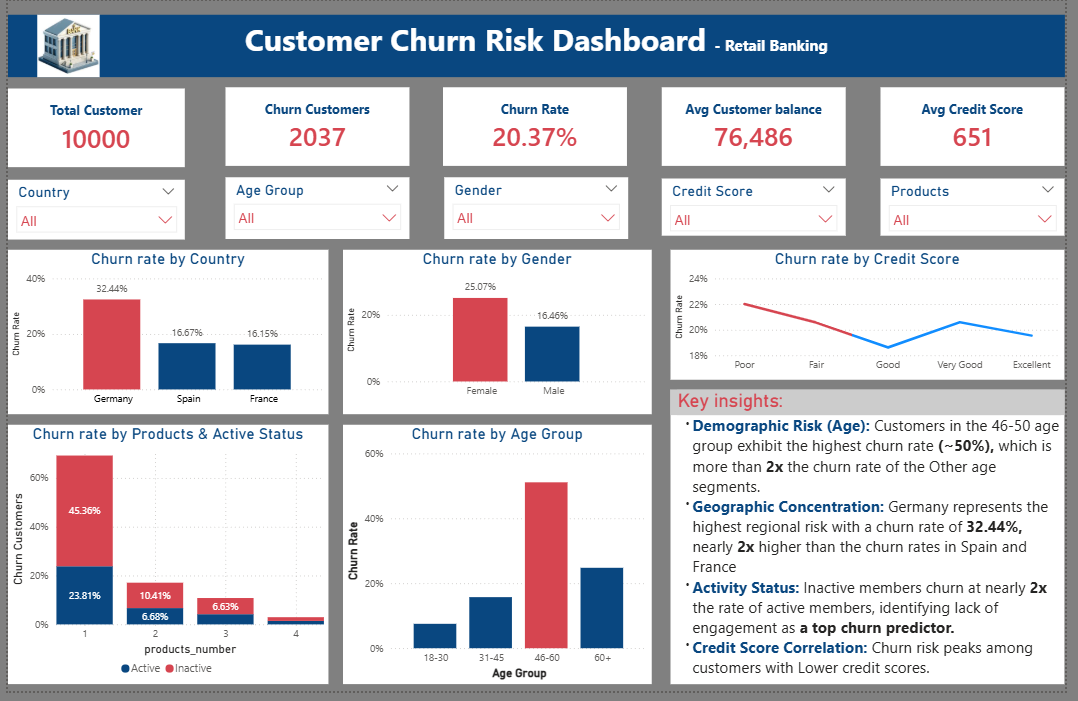

Layout of this report page (visuals, bound fields, positions):
{"tool":"powerbi","page":{"name":"Page 1","canvas":[1300,850],"ordinal":0},"visuals":[{"type":"textbox","title":"Customer Churn Risk Dashboard","box":[0,17.3,1300.7,76.5],"z":0},{"type":"columnChart","title":"Churn rate by Country","fields":{"Category":["Bank_Churn_Customer_Analysis.country"],"Y":["Bank_Churn_Customer_Analysis.Churn Rate"]},"box":[0,306,394.1,202.1],"z":1000},{"type":"columnChart","title":"Churn rate by Products & Active Status","fields":{"Category":["Bank_Churn_Customer_Analysis.products_number"],"Series":["Bank_Churn_Customer_Analysis.active Status"],"Y":["Bank_Churn_Customer_Analysis.Churn Customers"]},"box":[0,521.1,394.1,319],"z":2000},{"type":"clusteredColumnChart","title":"Churn rate by Gender","fields":{"Category":["Bank_Churn_Customer_Analysis.gender"],"Y":["Bank_Churn_Customer_Analysis.Churn Rate"]},"box":[412.9,306,379.7,202.1],"z":3000},{"type":"clusteredColumnChart","title":"Churn rate by Age Group","fields":{"Category":["Bank_Churn_Customer_Analysis.Age_group"],"Y":["Bank_Churn_Customer_Analysis.Churn Rate"]},"box":[412.9,521.1,379.7,319],"z":4000},{"type":"image","box":[0,17.3,148.7,76.5],"z":5000},{"type":"cardVisual","fields":{"Data":["Bank_Churn_Customer_Analysis.Total Customer"]},"box":[0,108.3,218,96.7],"z":6000},{"type":"cardVisual","fields":{"Data":["Bank_Churn_Customer_Analysis.Churn Customers"]},"box":[267.1,106.8,226.6,96.7],"z":7000},{"type":"cardVisual","fields":{"Data":["Bank_Churn_Customer_Analysis.Churn Rate"]},"box":[535.6,106.8,226.6,96.7],"z":8000},{"type":"cardVisual","fields":{"Data":["Avg(Bank_Churn_Customer_Analysis.balance)"]},"box":[804.1,106.8,226.6,96.7],"z":9000},{"type":"cardVisual","fields":{"Data":["Avg(Bank_Churn_Customer_Analysis.credit_score_numbers)"]},"box":[1074.1,106.8,226.6,96.7],"z":10000},{"type":"slicer","fields":{"Values":["Bank_Churn_Customer_Analysis.country"]},"box":[0,219.4,218,73.6],"z":11000},{"type":"slicer","fields":{"Values":["Bank_Churn_Customer_Analysis.Age_group"]},"box":[267.7,216.4,226,75.8],"z":12000},{"type":"slicer","fields":{"Values":["Bank_Churn_Customer_Analysis.gender"]},"box":[536.3,216.4,226,75.8],"z":13000},{"type":"slicer","fields":{"Values":["Bank_Churn_Customer_Analysis.active Status"]},"box":[804.8,219.1,226,70.3],"z":14000},{"type":"slicer","fields":{"Values":["Bank_Churn_Customer_Analysis.products_number"]},"box":[1073.4,218.3,226.6,70.7],"z":15000},{"type":"lineChart","title":"Churn rate by Credit Score","fields":{"Y":["Bank_Churn_Customer_Analysis.Churn Rate"],"Category":["creditscore table.Credit_Score"]},"box":[815.6,306,485.1,160.2],"z":16000},{"type":"textbox","title":"Key insights:","box":[815.6,477.8,485.1,362.3],"z":17000}]}

Visuals, with their boxes in screenshot pixels (x1, y1, x2, y2), scaled from the page's 1300x850 canvas onto the 1078x701 screenshot:
"Customer Churn Risk Dashboard" textbox: crop(0, 14, 1077, 77)
"Churn rate by Country" columnChart: crop(0, 252, 327, 419)
"Churn rate by Products & Active Status" columnChart: crop(0, 430, 327, 693)
"Churn rate by Gender" clusteredColumnChart: crop(342, 252, 657, 419)
"Churn rate by Age Group" clusteredColumnChart: crop(342, 430, 657, 693)
image: crop(0, 14, 123, 77)
cardVisual - Bank_Churn_Customer_Analysis.Total Customer: crop(0, 89, 181, 169)
cardVisual - Bank_Churn_Customer_Analysis.Churn Customers: crop(221, 88, 409, 168)
cardVisual - Bank_Churn_Customer_Analysis.Churn Rate: crop(444, 88, 632, 168)
cardVisual - Avg(Bank_Churn_Customer_Analysis.balance): crop(667, 88, 855, 168)
cardVisual - Avg(Bank_Churn_Customer_Analysis.credit_score_numbers): crop(891, 88, 1077, 168)
slicer - Bank_Churn_Customer_Analysis.country: crop(0, 181, 181, 242)
slicer - Bank_Churn_Customer_Analysis.Age_group: crop(222, 178, 409, 241)
slicer - Bank_Churn_Customer_Analysis.gender: crop(445, 178, 632, 241)
slicer - Bank_Churn_Customer_Analysis.active Status: crop(667, 181, 855, 239)
slicer - Bank_Churn_Customer_Analysis.products_number: crop(890, 180, 1077, 238)
"Churn rate by Credit Score" lineChart: crop(676, 252, 1077, 384)
"Key insights:" textbox: crop(676, 394, 1077, 693)
